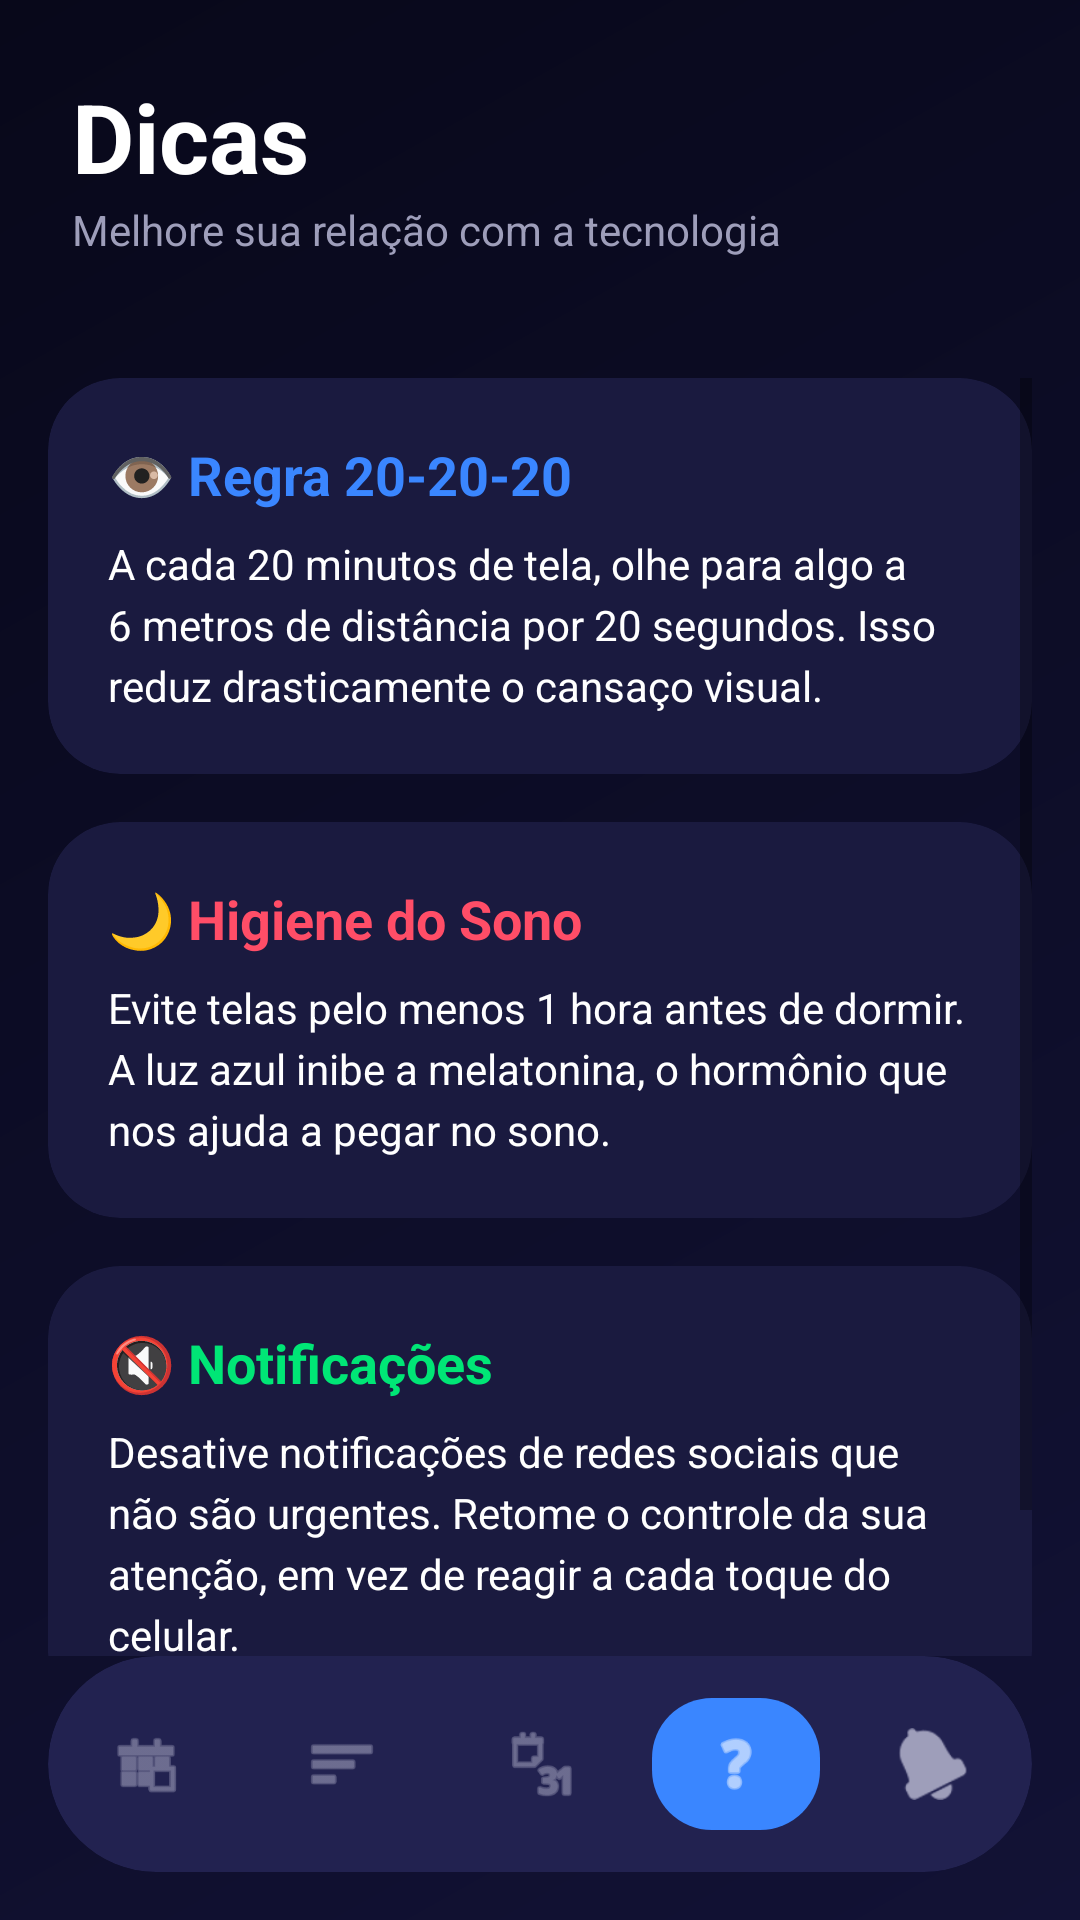

Named icons in this screenshot (1080px x 1920px) and their centers, point (x, y):
help: point (736, 1764)
popup reminder: point (933, 1764)
sort by size: point (342, 1764)
